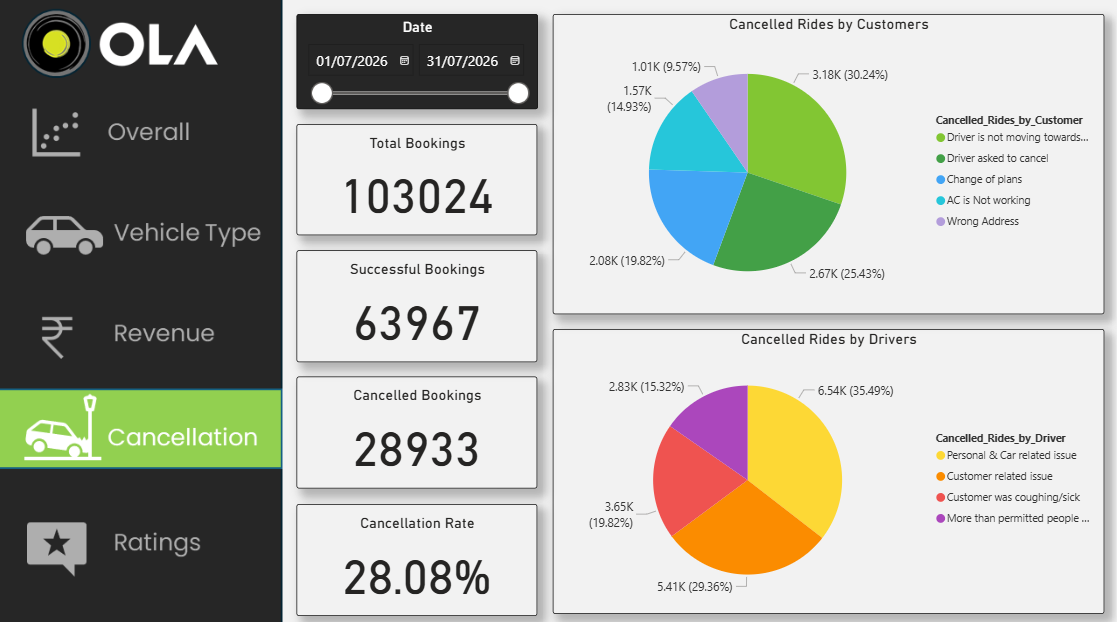

Layout of this report page (visuals, bound fields, positions):
{"tool":"powerbi","page":{"name":"Cancellation","canvas":[1280,720],"ordinal":3},"visuals":[{"type":"actionButton","box":[0,222.1,322.7,92],"z":0},{"type":"actionButton","box":[0,338.7,322.7,92],"z":1000},{"type":"actionButton","box":[0,577.9,322.7,92],"z":2000},{"type":"actionButton","box":[1.2,108,322.7,92],"z":3000},{"type":"pieChart","title":"Cancelled Rides by Customers","fields":{"Category":["July.Cancelled_Rides_by_Customer"],"Y":["CountNonNull(July.Cancelled_Rides_by_Customer)"]},"box":[632.9,17.1,630,342.9],"z":4000},{"type":"pieChart","title":"Cancelled Rides by Drivers","fields":{"Category":["July.Cancelled_Rides_by_Driver"],"Y":["CountNonNull(July.Cancelled_Rides_by_Driver)"]},"box":[632.9,377.1,630,325.7],"z":5000},{"type":"slicer","title":"Date","fields":{"Values":["July.Date"]},"box":[340,16.4,275.7,108.6],"z":6000},{"type":"card","title":"Total Bookings","fields":{"Values":["Count(July.Booking_ID)"]},"box":[340.7,142.5,275.1,126.9],"z":7000},{"type":"card","title":"Successful Bookings","fields":{"Values":["Count(July.Booking_ID)"]},"box":[340.7,286.5,275.1,128.3],"z":8000},{"type":"card","title":"Cancelled Bookings","fields":{"Values":["Count(July.Booking_ID)"]},"box":[340.7,431.9,275.1,128.3],"z":9000},{"type":"card","title":"Cancellation Rate","fields":{"Values":["July.Cancelled_Booking_Percentage"]},"box":[340.7,577.3,275.1,128.3],"z":11000}]}

Visuals, with their boxes on the page's 1280x720 design canvas (x1, y1, x2, y2). These are canvas units, not pixel positions in the 1117x622 screenshot, which may show the page scaled, cropped or inside an application window:
actionButton: x1=0, y1=222, x2=323, y2=314
actionButton: x1=0, y1=339, x2=323, y2=431
actionButton: x1=0, y1=578, x2=323, y2=670
actionButton: x1=1, y1=108, x2=324, y2=200
"Cancelled Rides by Customers" pieChart: x1=633, y1=17, x2=1263, y2=360
"Cancelled Rides by Drivers" pieChart: x1=633, y1=377, x2=1263, y2=703
"Date" slicer: x1=340, y1=16, x2=616, y2=125
"Total Bookings" card: x1=341, y1=142, x2=616, y2=269
"Successful Bookings" card: x1=341, y1=286, x2=616, y2=415
"Cancelled Bookings" card: x1=341, y1=432, x2=616, y2=560
"Cancellation Rate" card: x1=341, y1=577, x2=616, y2=706
